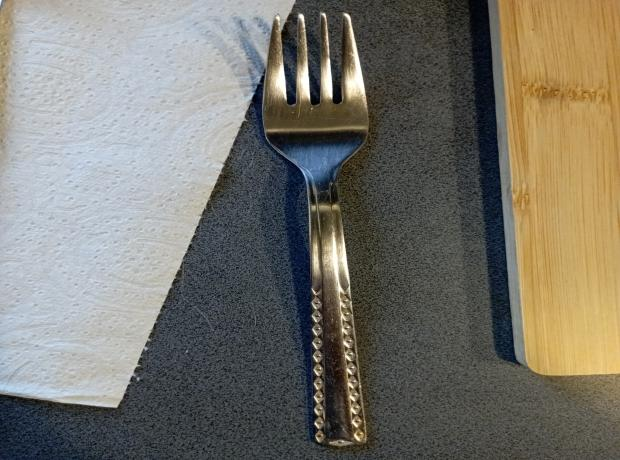metal: (259, 15, 382, 448)
